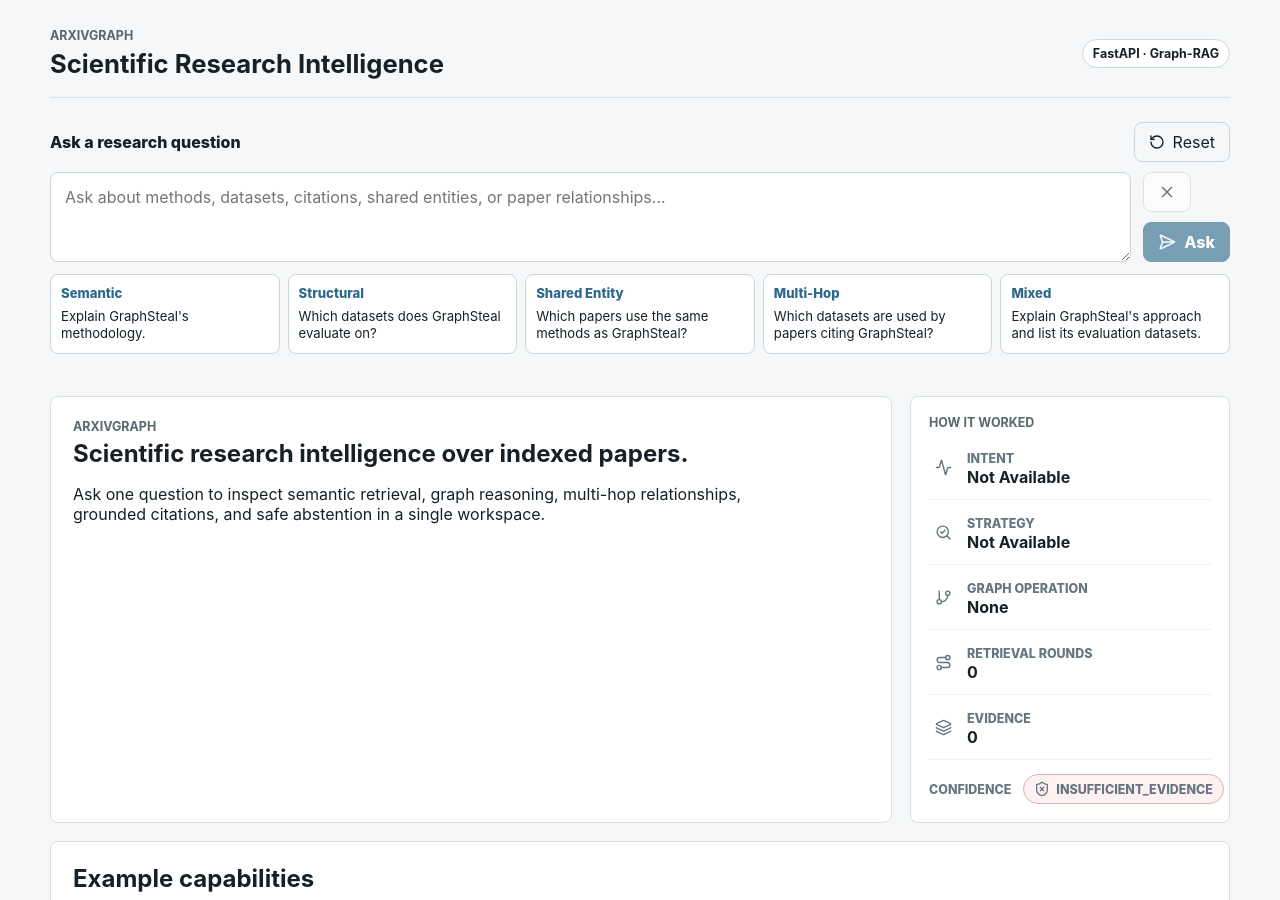
ArXivGraph research UI › allows clicking an example query into the composer
Click the button "Structural Which datasets does GraphSteal evaluate on?" at [402, 314], box [288,274,517,354]
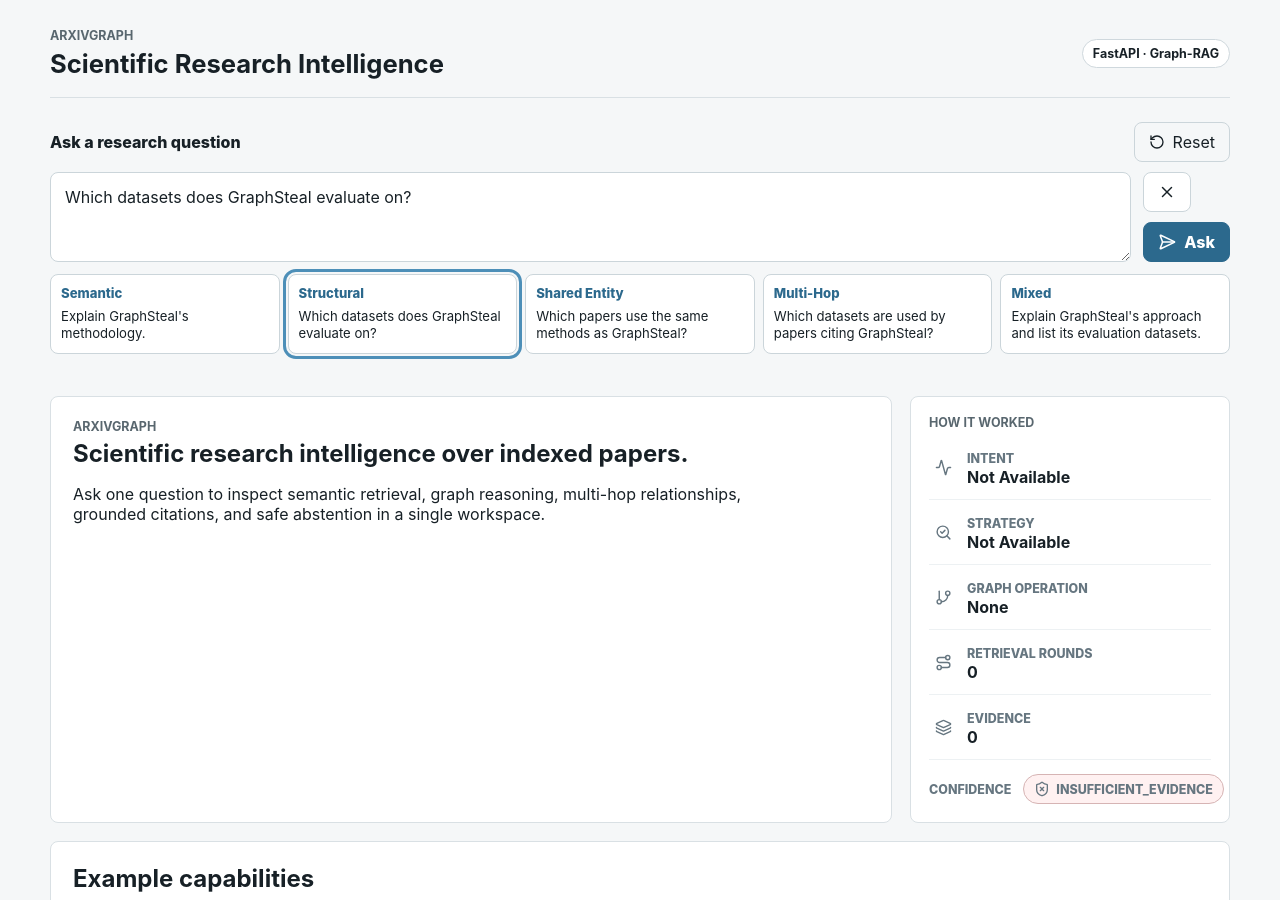
Expected: the text box labelled "Ask a research question" holds "Which datasets does GraphSteal evaluate on?", [50,172,1131,262]
